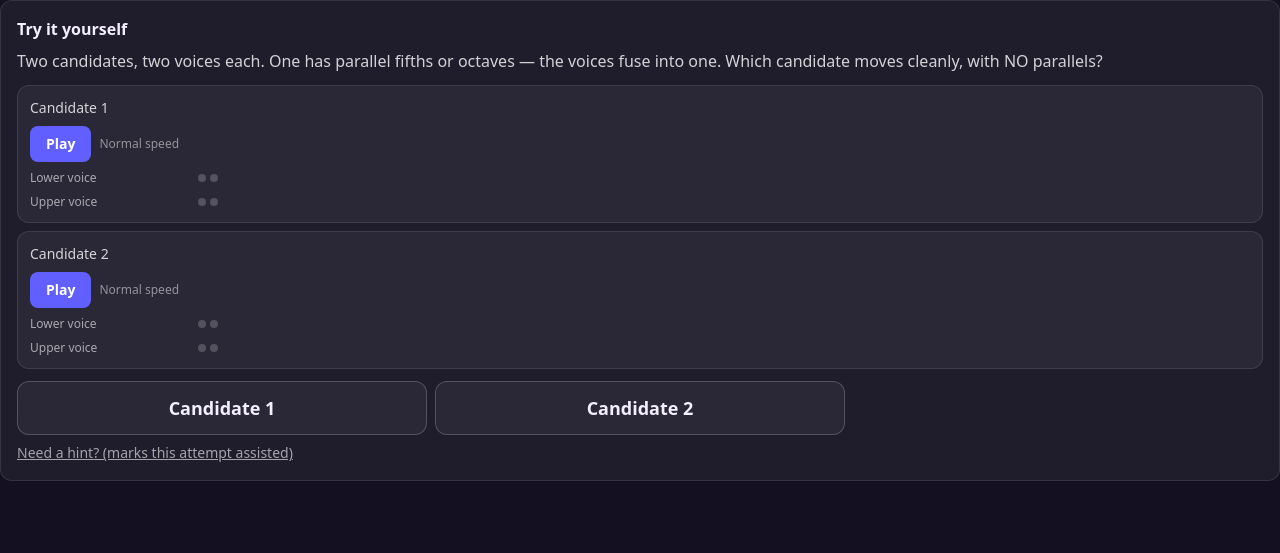
Test: new choice families in TaskPlayer › parallel-id renders one duet player per candidate
Expected: the number of elements with test id "duet-player" is 2, x1=17 y1=85 x2=1263 y2=223; x1=17 y1=231 x2=1263 y2=369
Click the button "Candidate 1" at (222, 408), box x1=17 y1=381 x2=427 y2=435
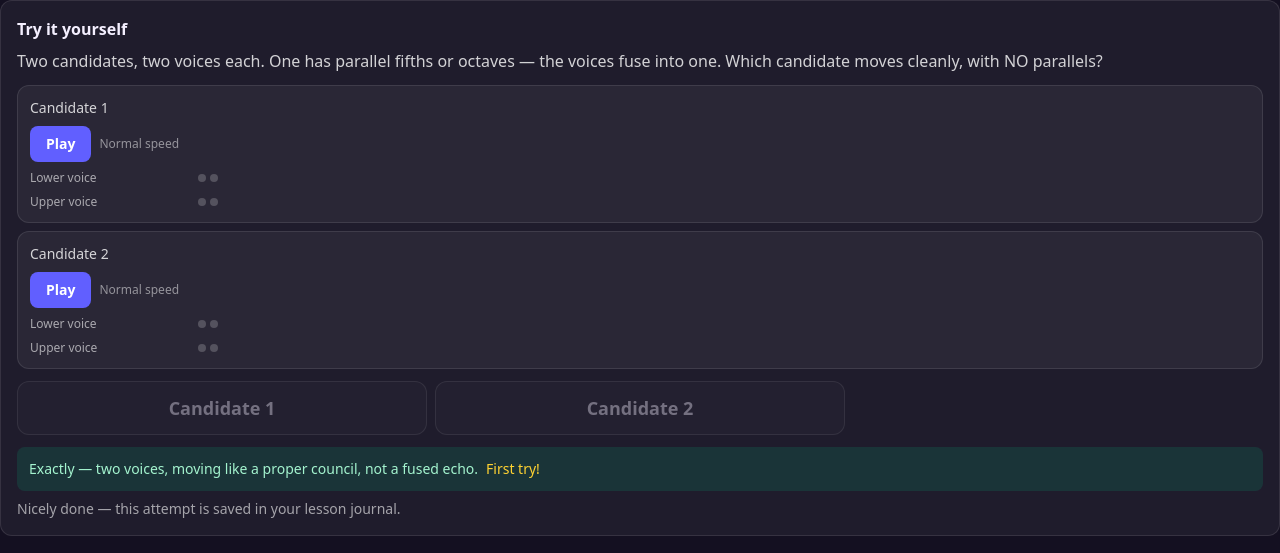
Now the text "like a proper council" is shown, box x1=29 y1=459 x2=478 y2=478
